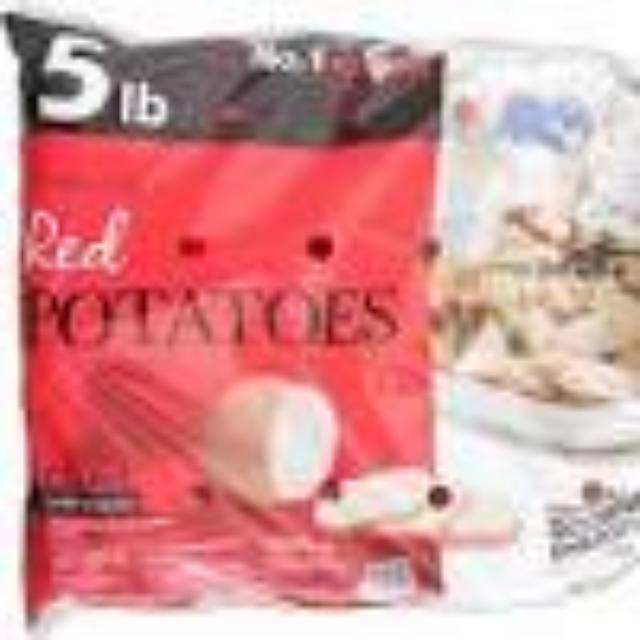Damaged potato: (26, 66, 640, 620)
